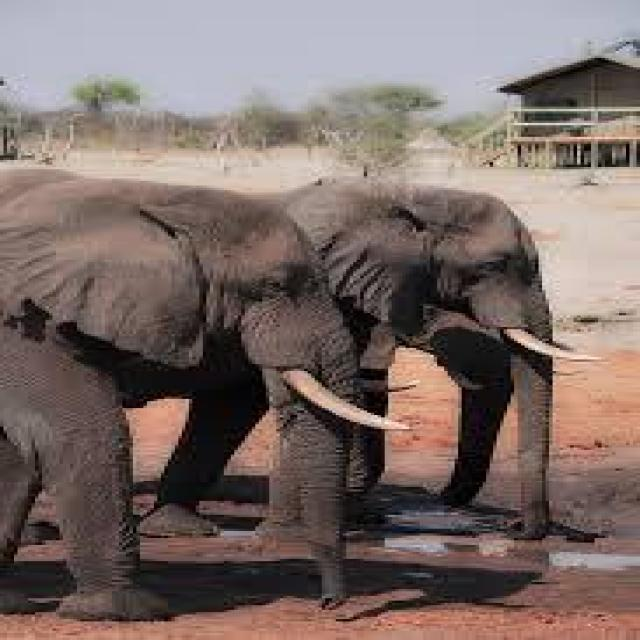Elephant: (0, 163, 346, 622), (280, 181, 584, 538)
